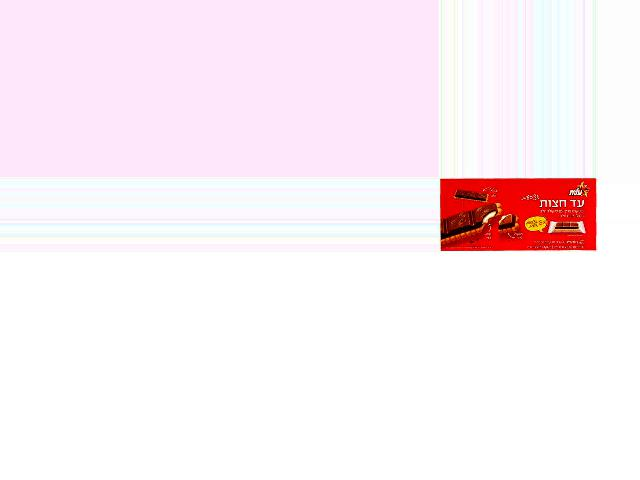chocolate: (439, 177, 599, 251)
